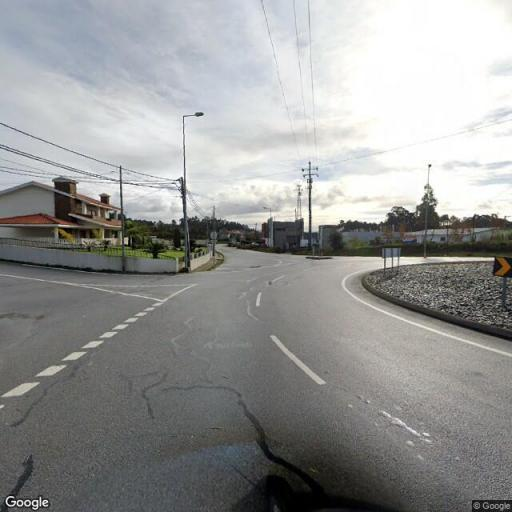mono_8: (300, 162, 320, 246)
